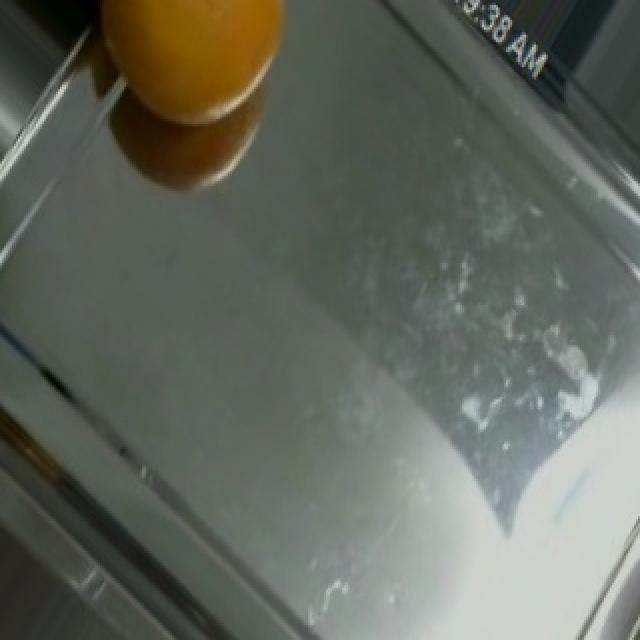Fruit: (72, 2, 316, 152)
